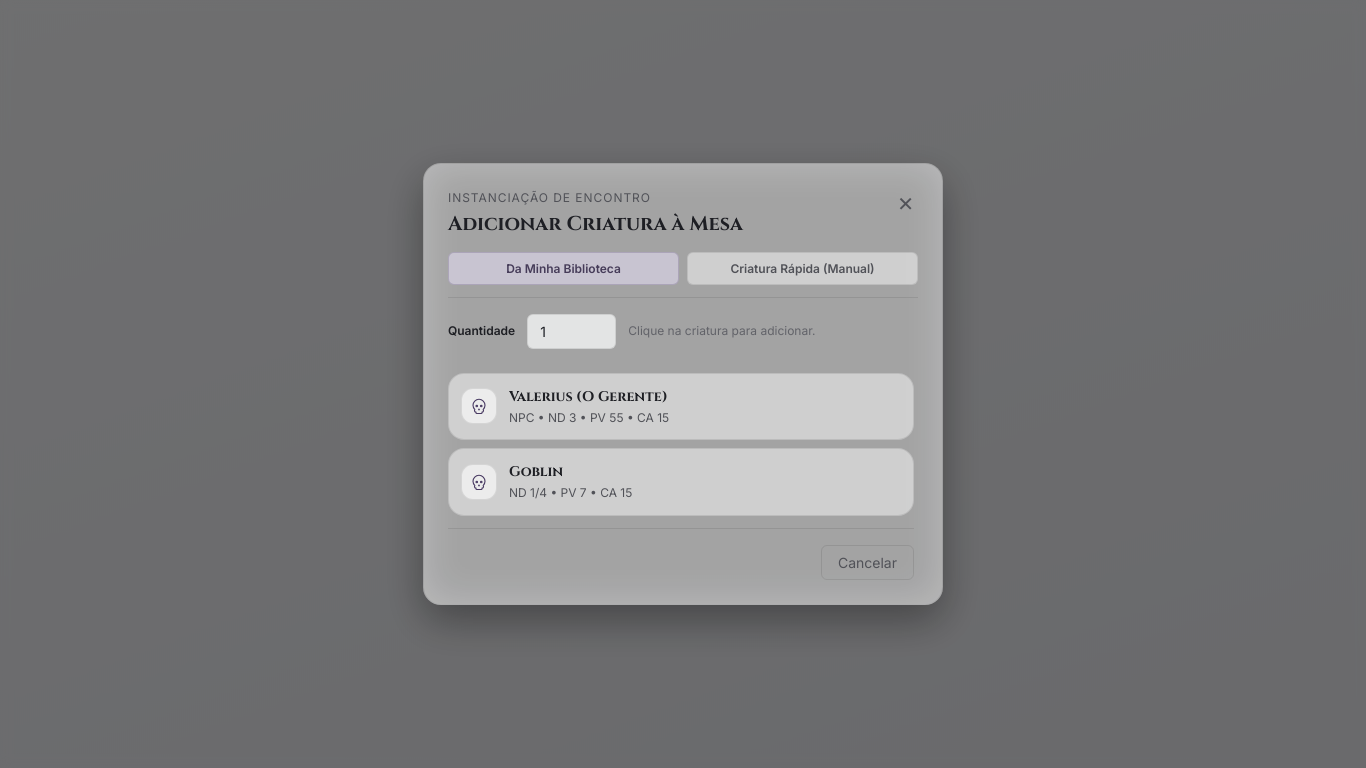
AddCreatureModal — biblioteca › a criatura rápida continua com o botão de adicionar
Click the tab "Criatura Rápida (Manual)": click(802, 268) [687,252,918,284]
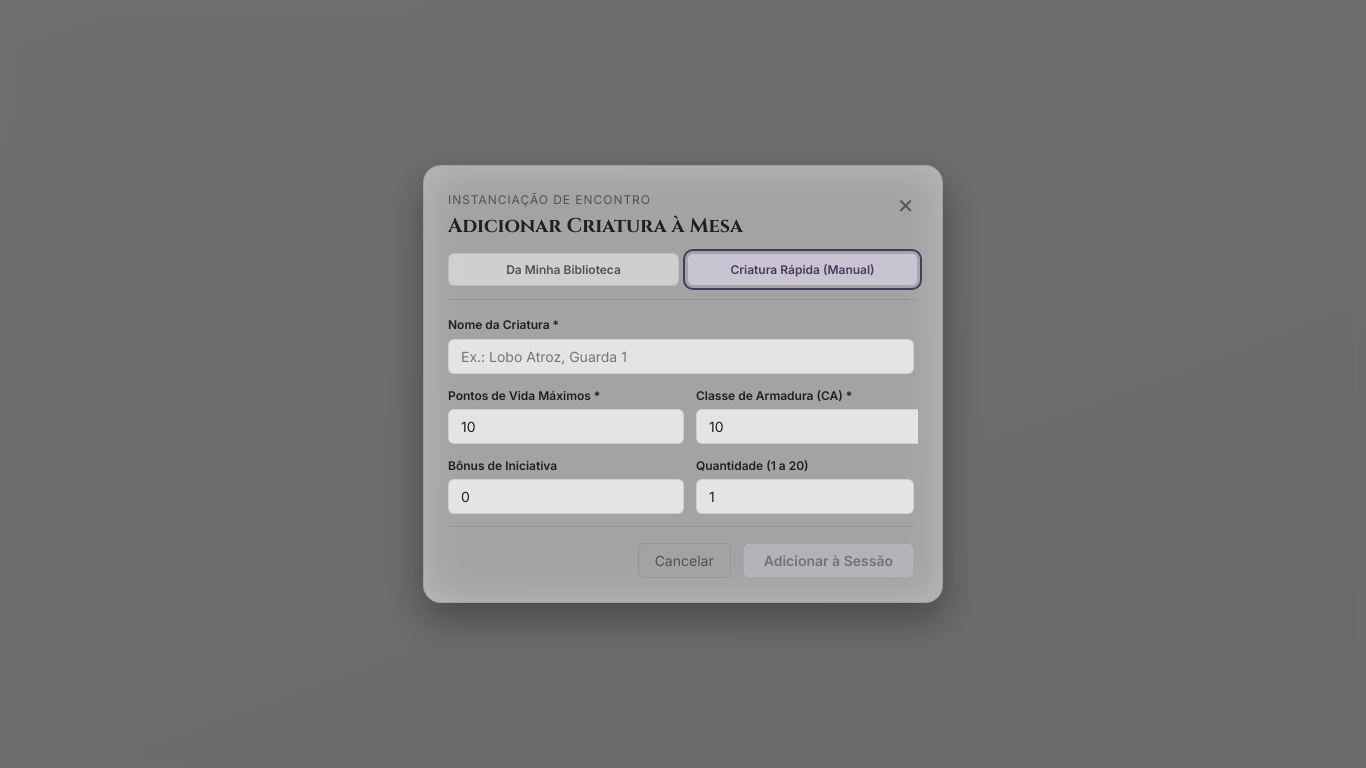
Result: the button "Adicionar à Sessão" is shown at [743,543,914,578]
